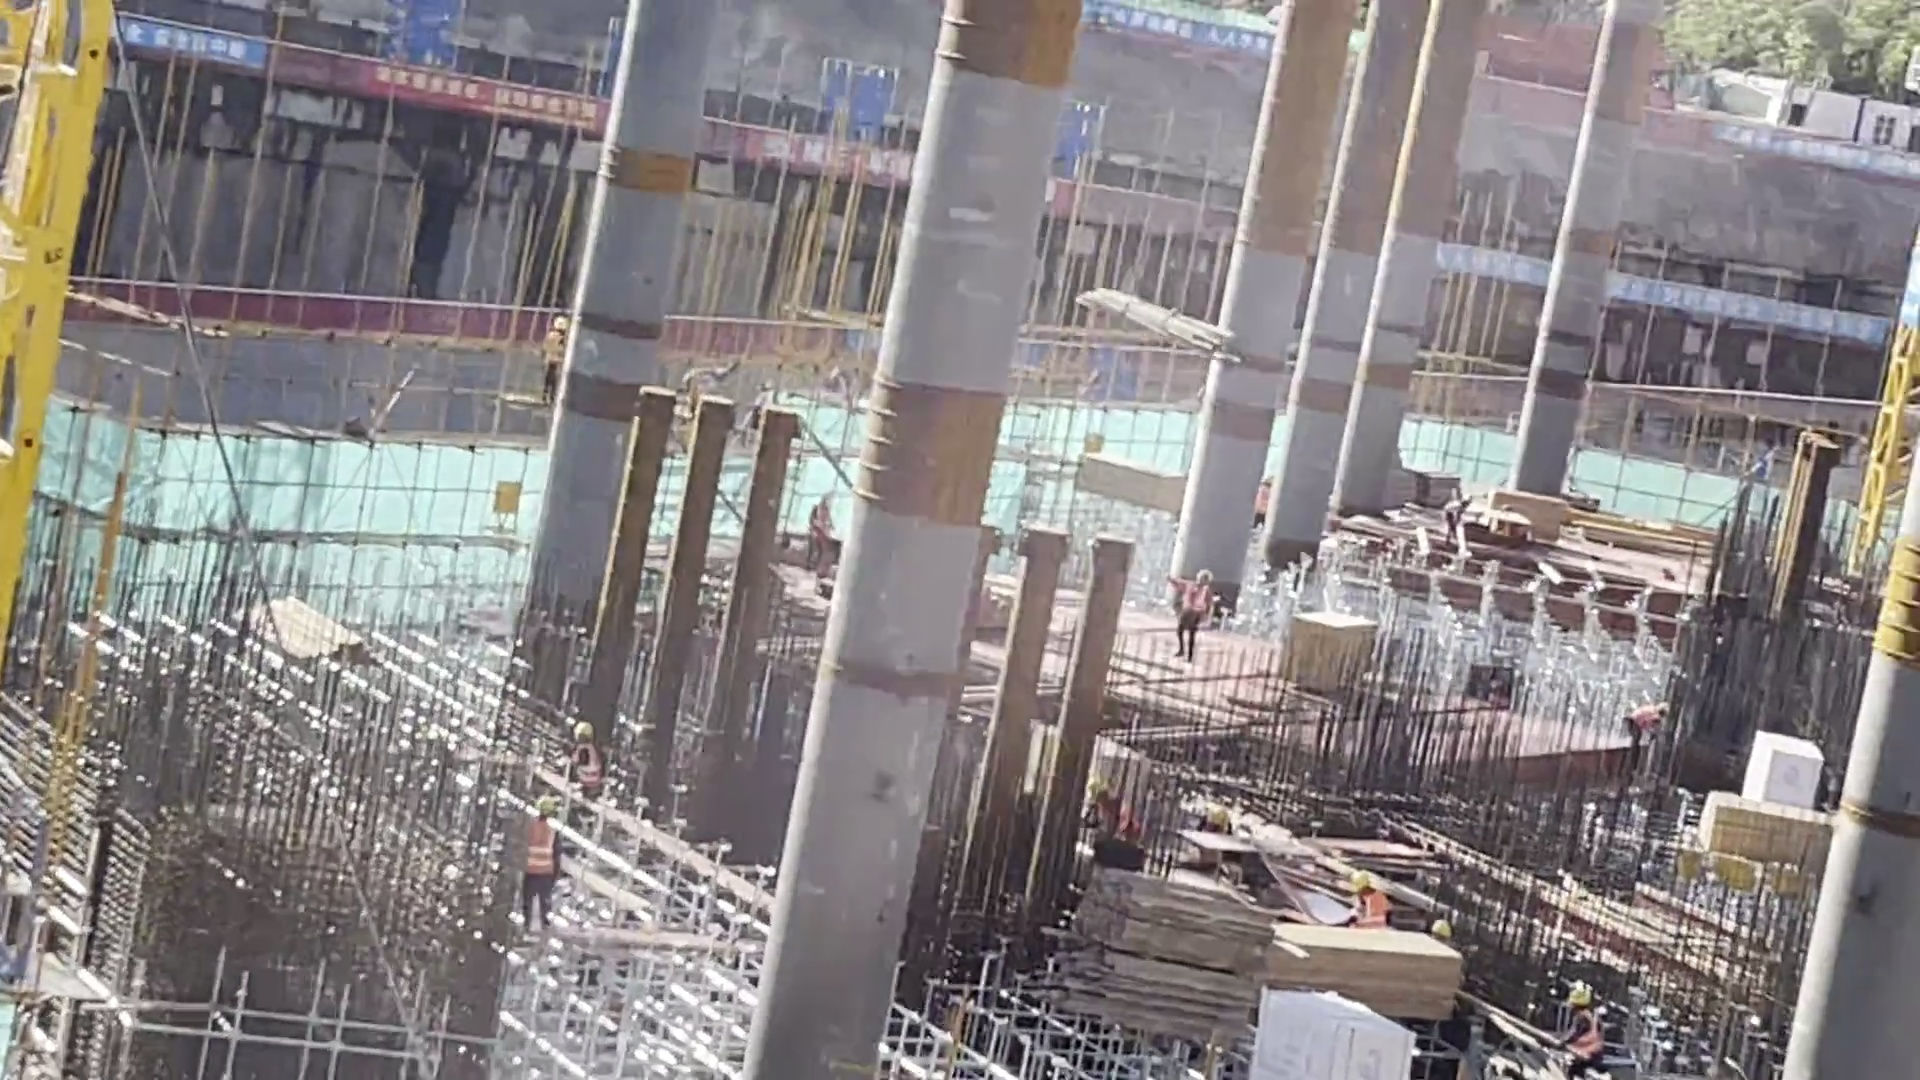ebox: (491, 477, 526, 539)
helmet: (1350, 869, 1373, 891), (1565, 986, 1592, 1004)
person: (519, 795, 564, 927), (1558, 983, 1617, 1080), (1163, 566, 1215, 660), (1088, 777, 1142, 846), (568, 721, 609, 811), (800, 488, 835, 580), (541, 314, 569, 405), (1349, 871, 1388, 933)
slogan: (1606, 273, 1887, 351), (346, 56, 603, 133), (741, 123, 908, 188), (1086, 1, 1273, 59), (122, 9, 269, 82)
vest: (522, 819, 556, 886), (1568, 1009, 1603, 1071), (1172, 583, 1208, 618), (1356, 890, 1383, 933)
wood: (1058, 859, 1268, 1054), (1270, 915, 1468, 1023), (1279, 601, 1379, 705)
